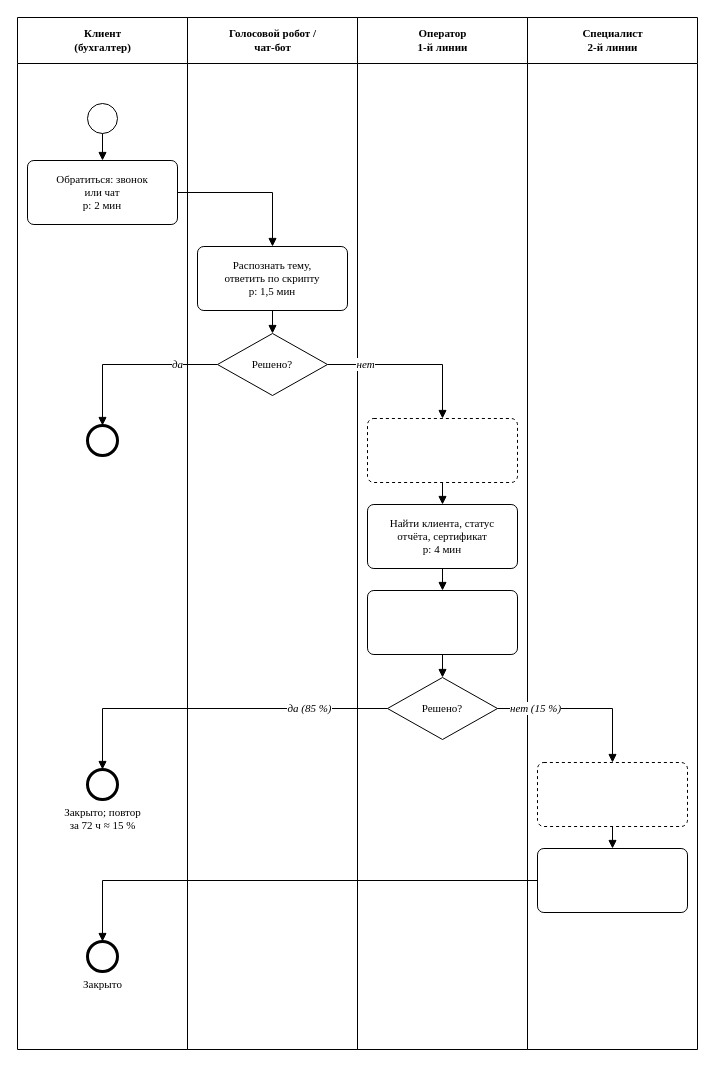
Image size: 715x1067. Some labels were removed from this diagram. Each missing label, with the centre of its shape:
"Вопрос по Экстерну" belongs at (x=102, y=118).
"Диагностика, ответ, оформление р: 8,5 мин" belongs at (x=442, y=622).
"Закрыто ботом (25 %)" belongs at (x=102, y=440).
"Очередь 2-й линии о: до 4 ч" belongs at (x=612, y=794).
"Очередь к оператору о: 3 мин, в пик 25 мин" belongs at (x=442, y=450).
"Решить и ответить р: 20 мин" belongs at (x=612, y=880).
